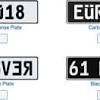1: (79, 60, 90, 76), (5, 3, 14, 20)
6: (68, 60, 79, 76)
8: (15, 4, 25, 20)
E: (74, 4, 85, 20), (12, 60, 22, 76)
R: (24, 60, 32, 76), (95, 4, 100, 20)
V: (1, 60, 11, 76)
ue: (84, 4, 95, 20)
